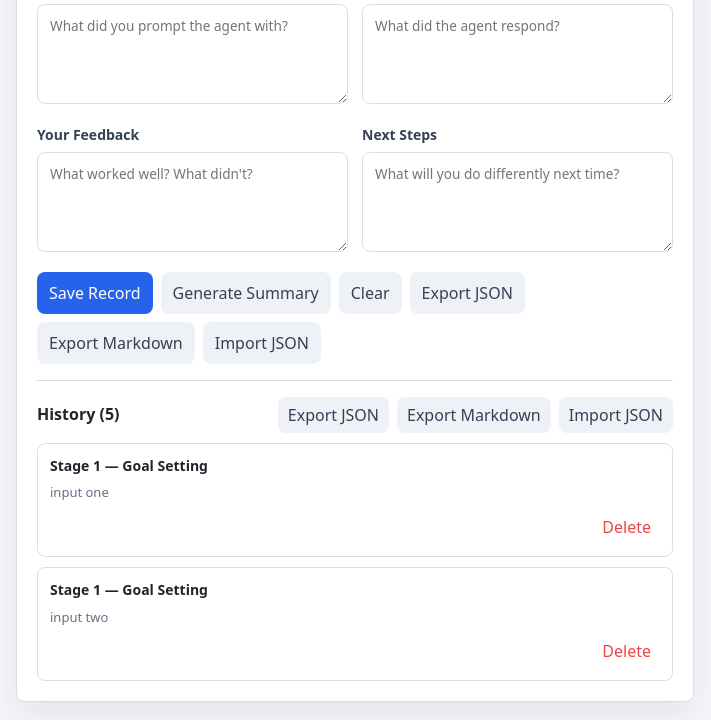
CodeAgentFlowVizPlugin › decrements the total after deleting a record
(page scrolled)
Check: the heading "History (5)" is shown, box [37, 404, 120, 425]
Click the 1st button "Delete".
click(627, 527)  # box [593, 510, 660, 544]
(page scrolled)
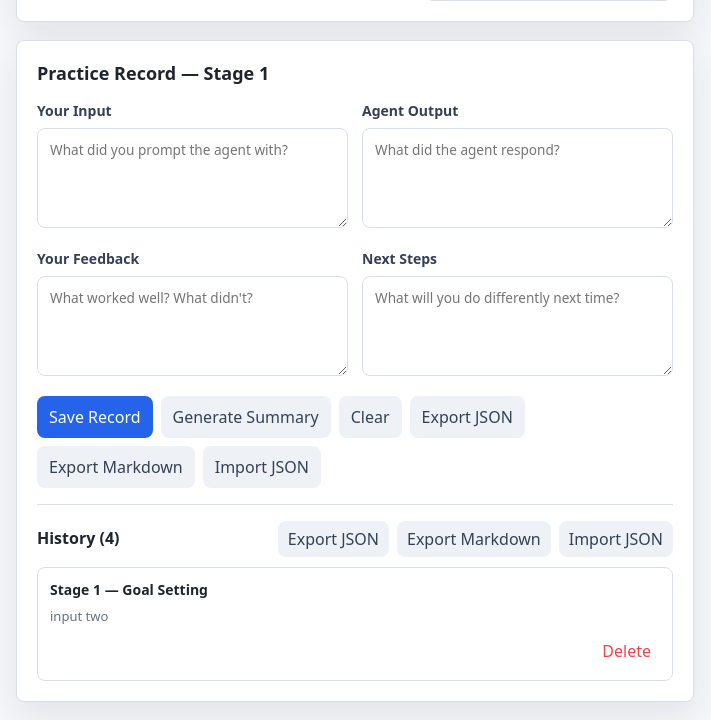
Check: the heading "History (4)" is shown, box [37, 528, 120, 549]
Check: the text "input one" is gone
